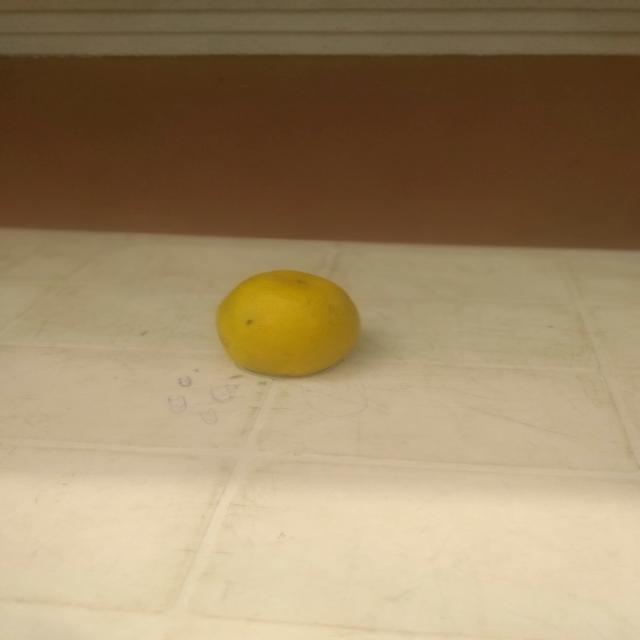Ripe orange: (206, 259, 374, 390)
